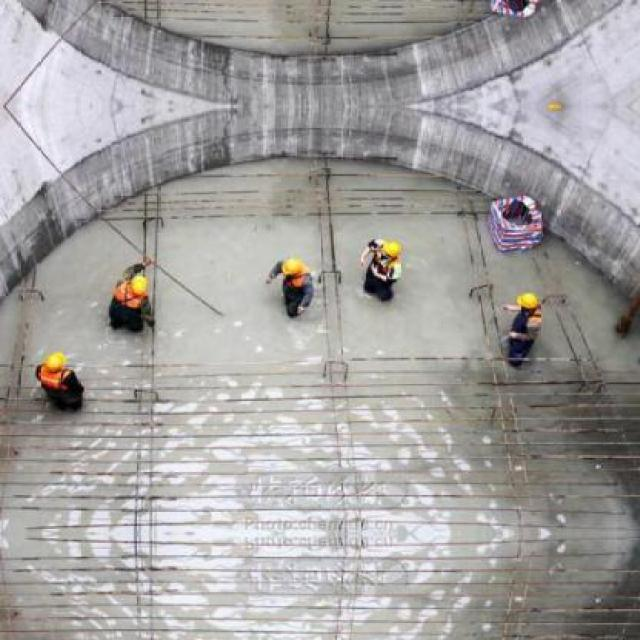helmet: (125, 269, 149, 300), (278, 255, 307, 277), (511, 292, 538, 312), (377, 238, 401, 260), (44, 352, 67, 374)
